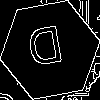D: (25, 25, 67, 77)
